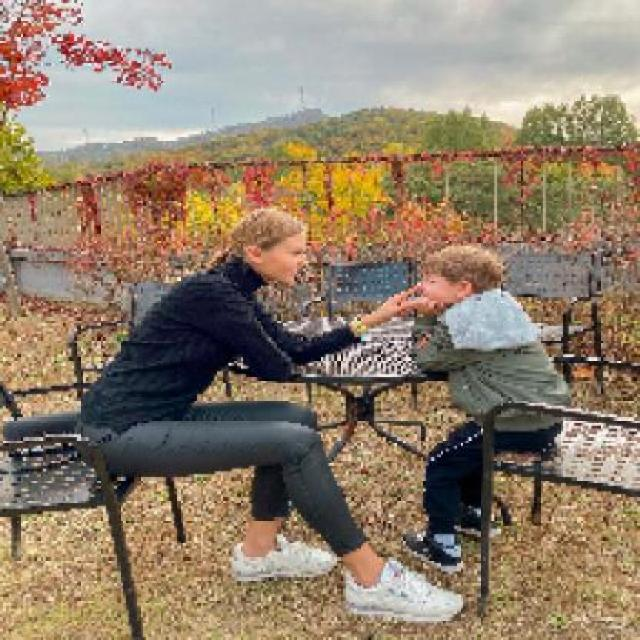child: (401, 244, 573, 573)
